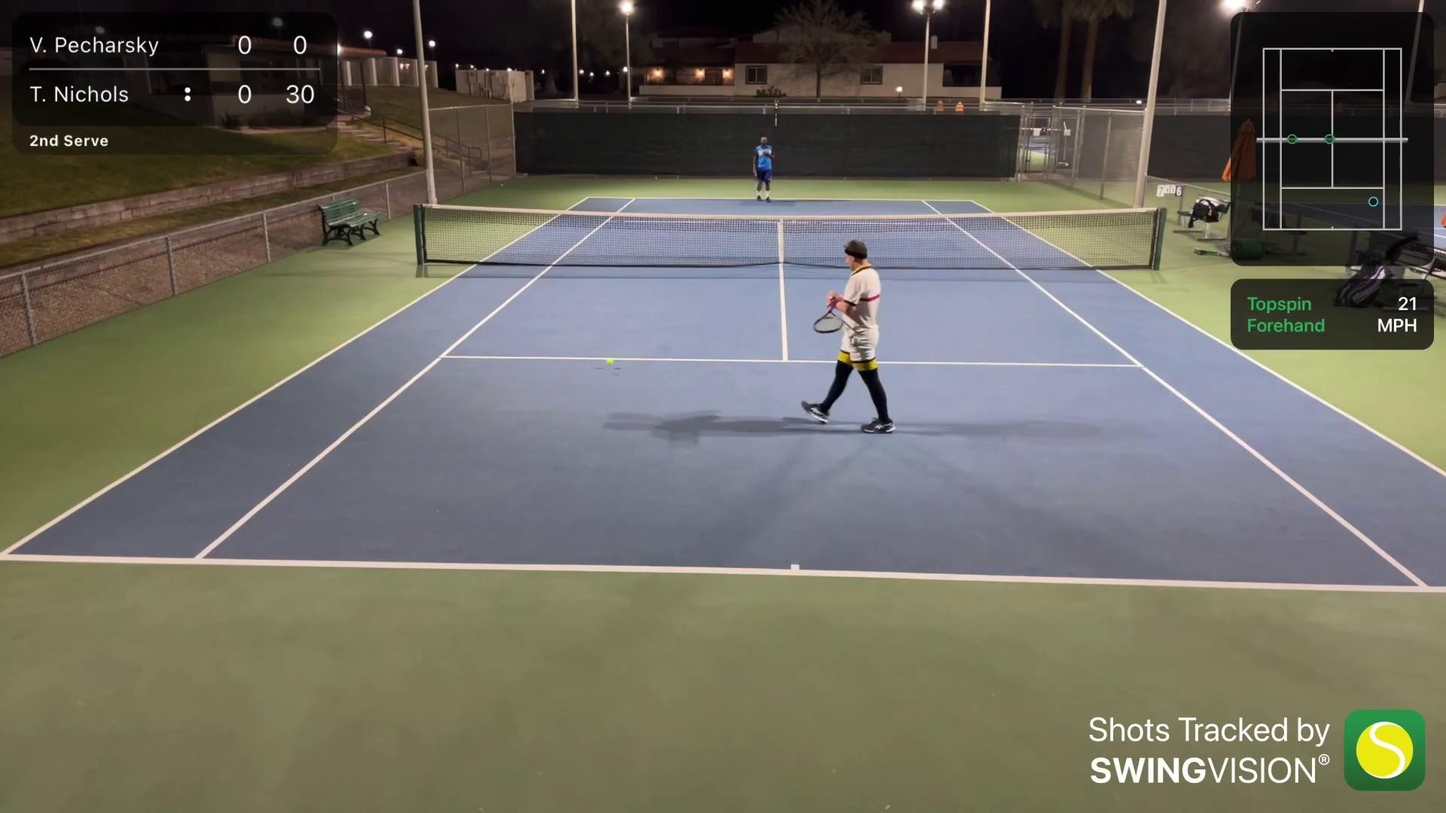ball: (606, 356, 614, 367), (791, 220, 796, 225)
